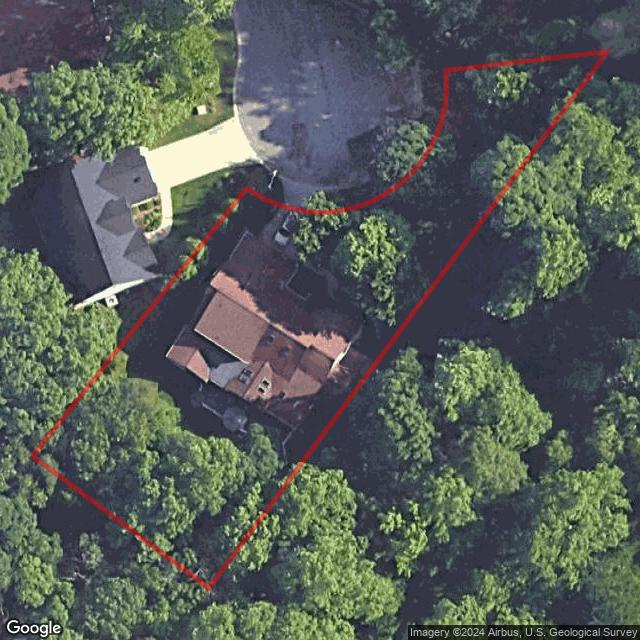Driveway: (259, 205, 311, 257)
Extra-Driveway: (282, 180, 317, 212)
Extra-Lawn: (307, 71, 447, 213), (246, 164, 284, 205)
House: (163, 230, 372, 433)
Lawn: (33, 50, 608, 588)
Other: (189, 378, 297, 468)
Sidewalk: (292, 247, 338, 297)
